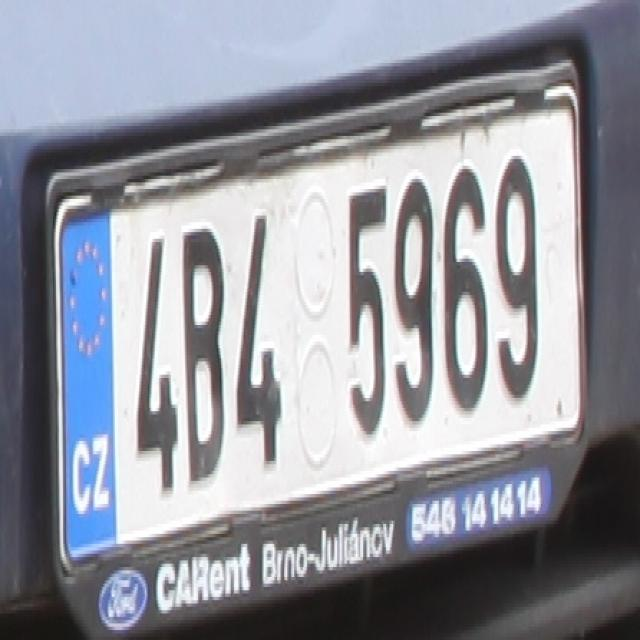4: (234, 209, 284, 467), (132, 222, 179, 491)
5: (343, 179, 387, 438)
6: (439, 159, 487, 428)
9: (492, 152, 540, 408), (390, 176, 435, 428)
B: (181, 226, 227, 484)
